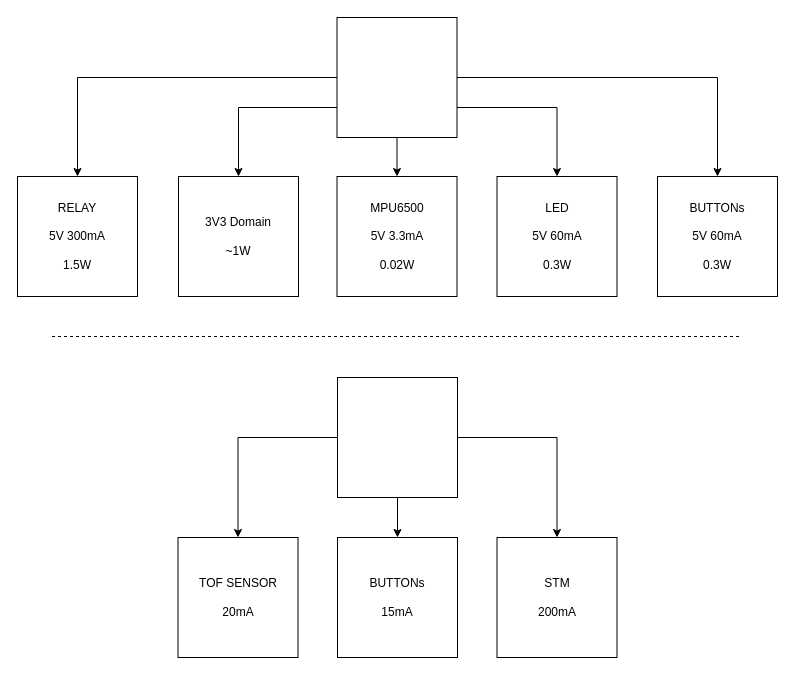
Some shapes in this 795 by 675 pixel diagram are drawn without their labels. The shapes that lost their labels are listed below. From the top down, each one's centre as x and y in pixels, then its label:
(396,77): 5V Domain 630 mA ~3.8W (20% in case)
(397,437): 3V3 Domain 240 mA ~1W (20% in case)
